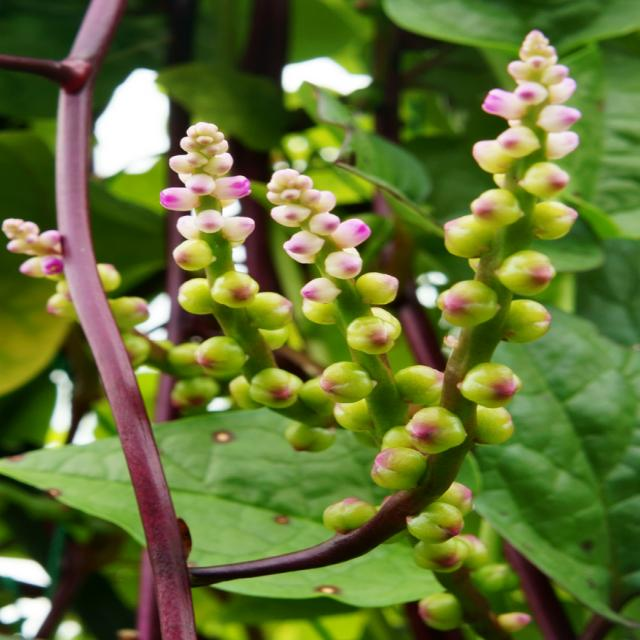Medicinal-Basale: (7, 22, 640, 624)
